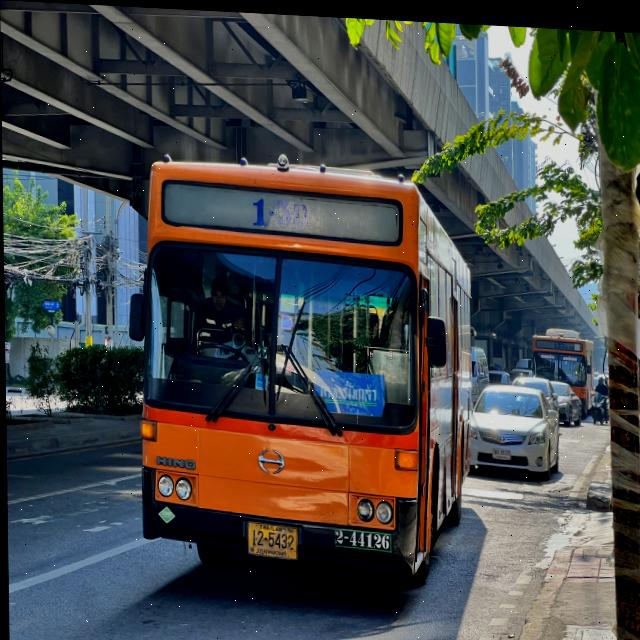BMTA-bus: (133, 153, 474, 582), (529, 320, 594, 418)
Bus-Line-Number: (249, 189, 312, 231), (553, 335, 575, 345)
Destination-Sign-Normal: (312, 367, 385, 413), (565, 367, 578, 377)
